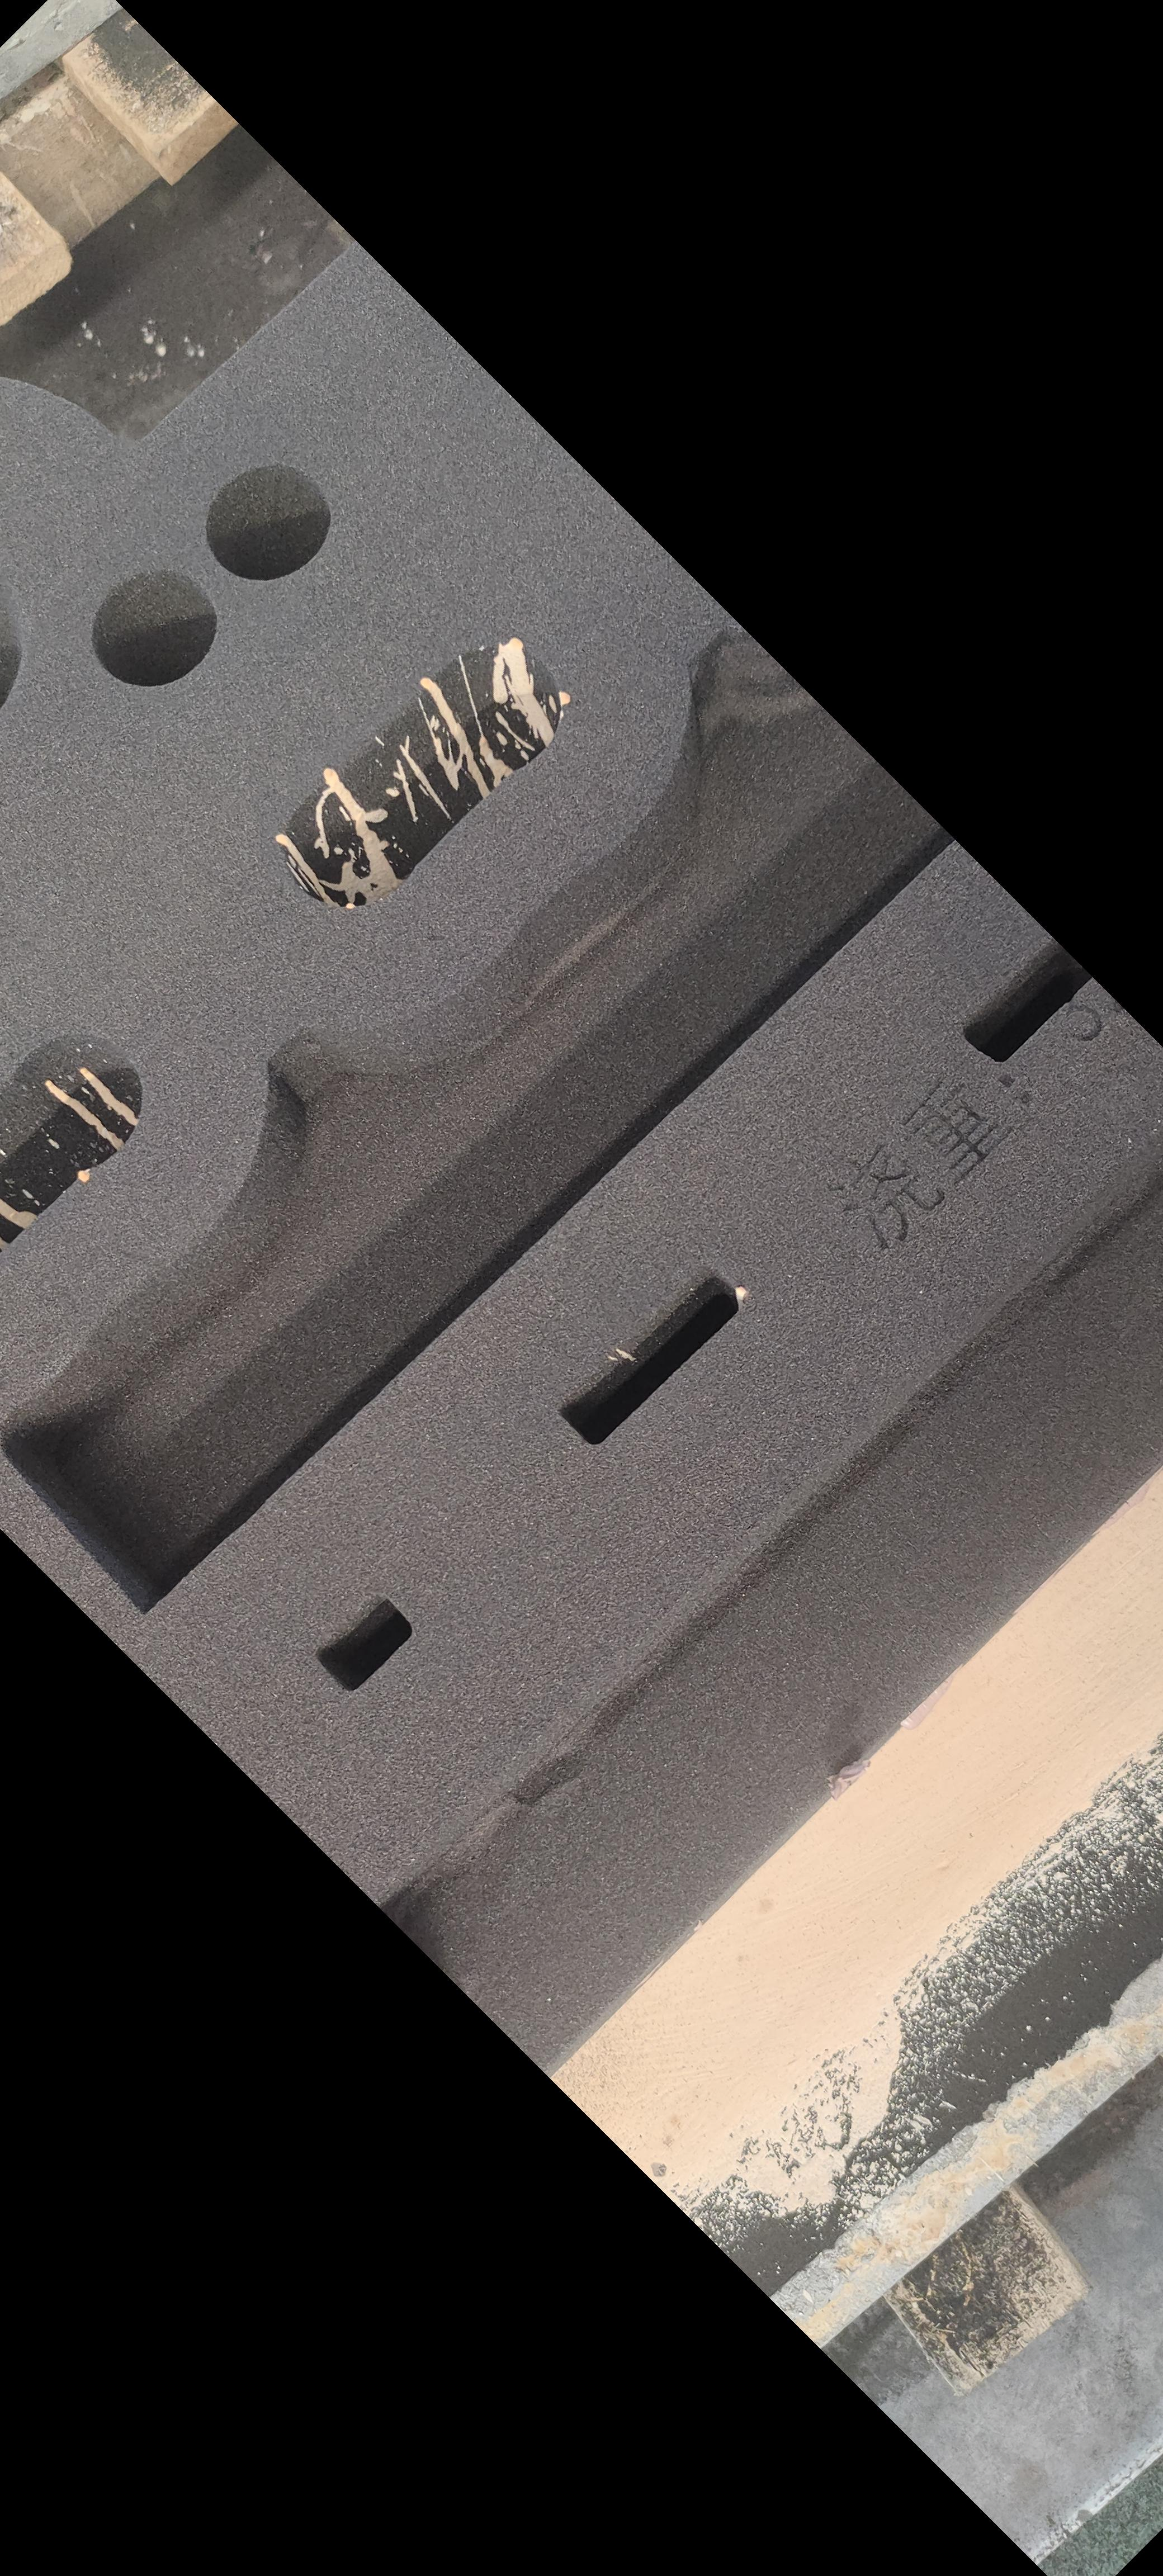pouring hole: (0, 585, 21, 721)
